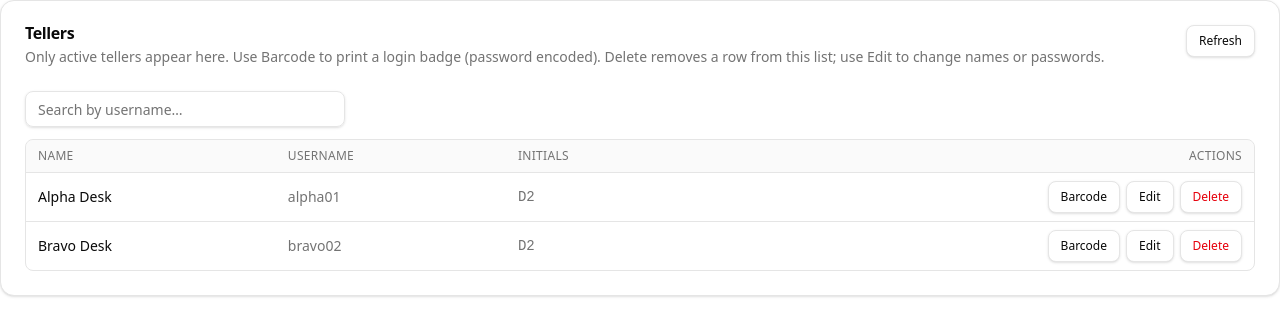
TellersTable › filters tellers by username keyword (case-insensitive)
Type "BRAVO" into the search field named "search tellers by username" at (185,109), box 25,91 -> 345,127
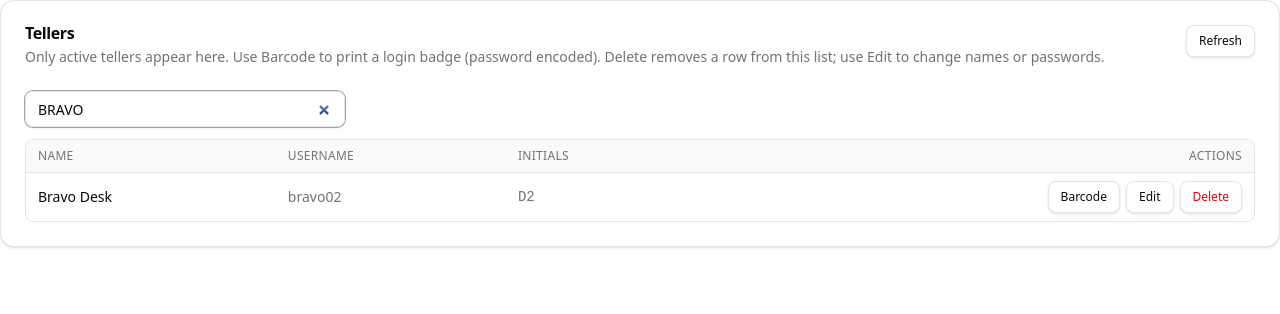
Expected: the text "Bravo Desk" is shown, 26,172 -> 276,221
Expected: the text "Alpha Desk" is gone
Replace the text in the search field named "search tellers by username" with "zzz" at (185,109), box 25,91 -> 345,127
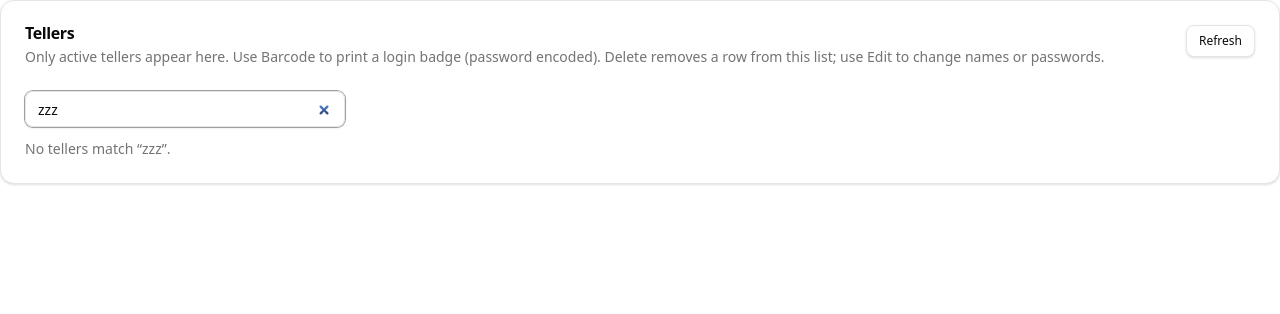
Expected: the text "No tellers match “zzz”." is shown, 25,139 -> 170,158
